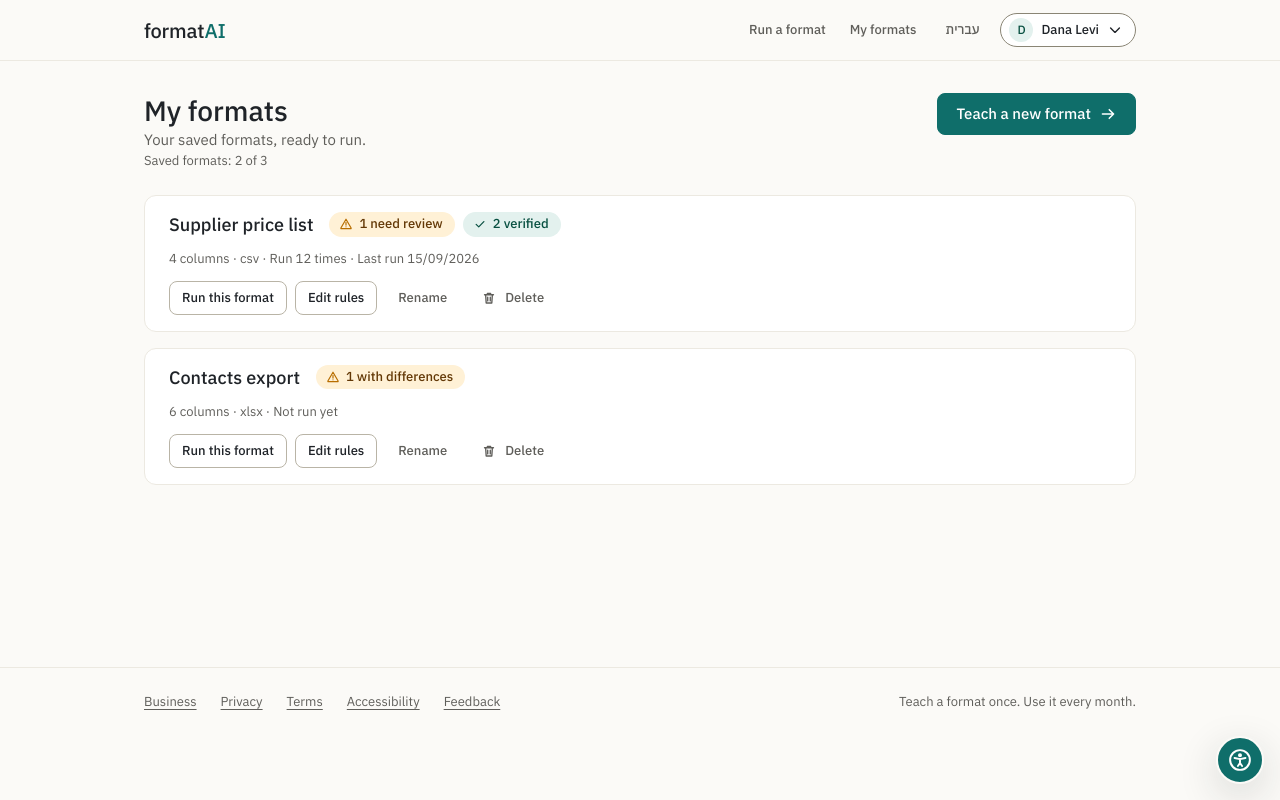
it: My formats › delete › asks first, says it frees a slot but gives back no AI learns, and then removes the format
This screenshot has width=1280, height=800.
Check: the list with test id "format-list" is shown, box top-left (144, 195), bottom-right (1136, 485)
Click the button "Delete" below "Supplier price list": (513, 298) top-left (468, 281), bottom-right (557, 315)
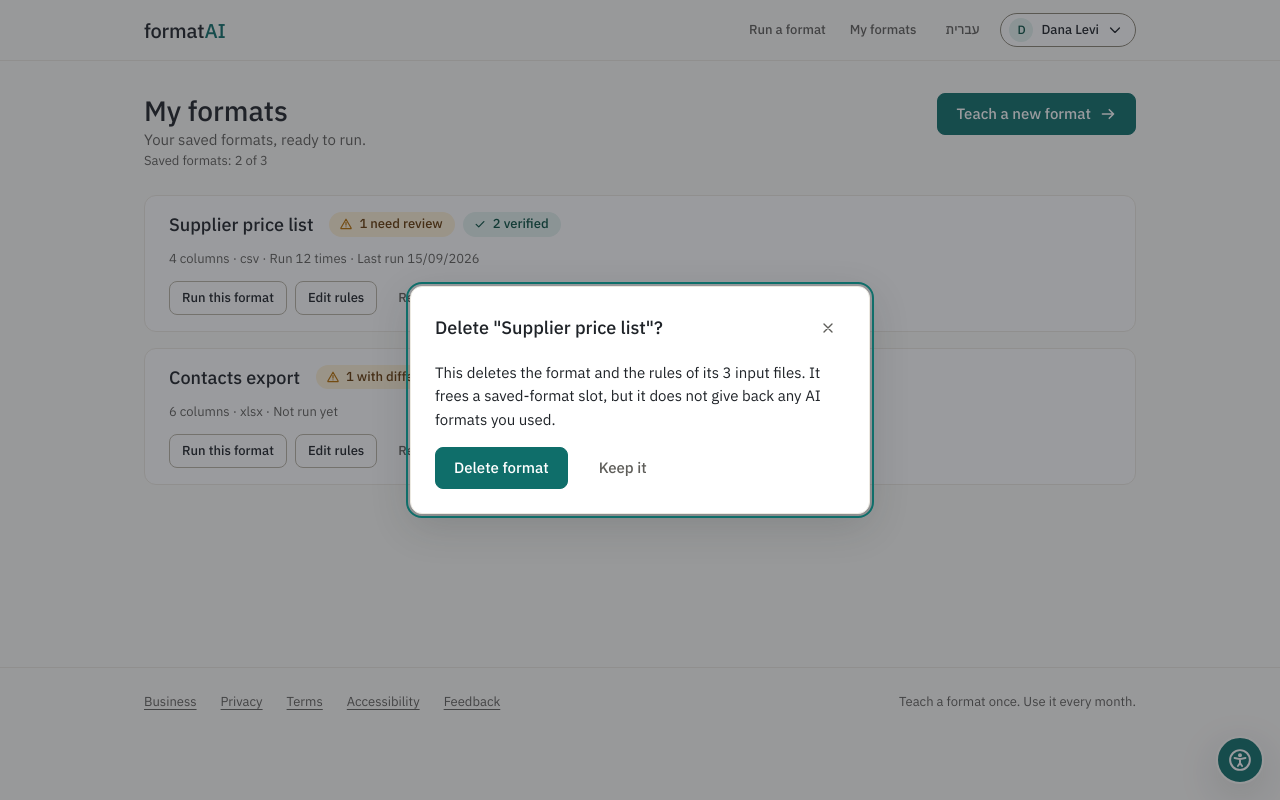
Check: the dialog "Delete \"Supplier price list\"?" shows "This deletes the format and the rules of its 3 input files.", box top-left (435, 363), bottom-right (821, 429)
Check: the dialog "Delete \"Supplier price list\"?" shows "It frees a saved-format slot, but it does not give back any AI formats you used.", box top-left (435, 363), bottom-right (821, 429)
Click the button "Delete format": (501, 468) top-left (435, 447), bottom-right (568, 489)
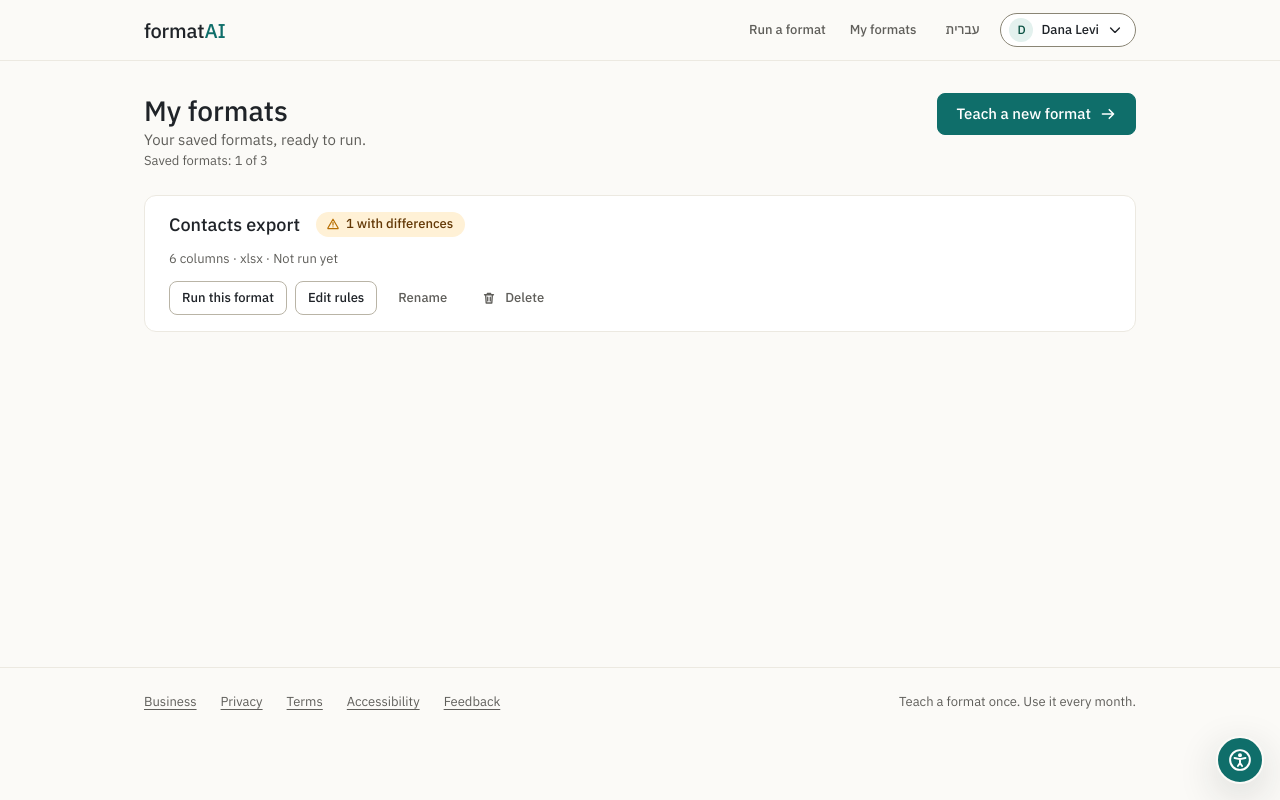
Check: the heading "Contacts export" is shown, box top-left (169, 214), bottom-right (300, 237)
Check: the dialog is gone
